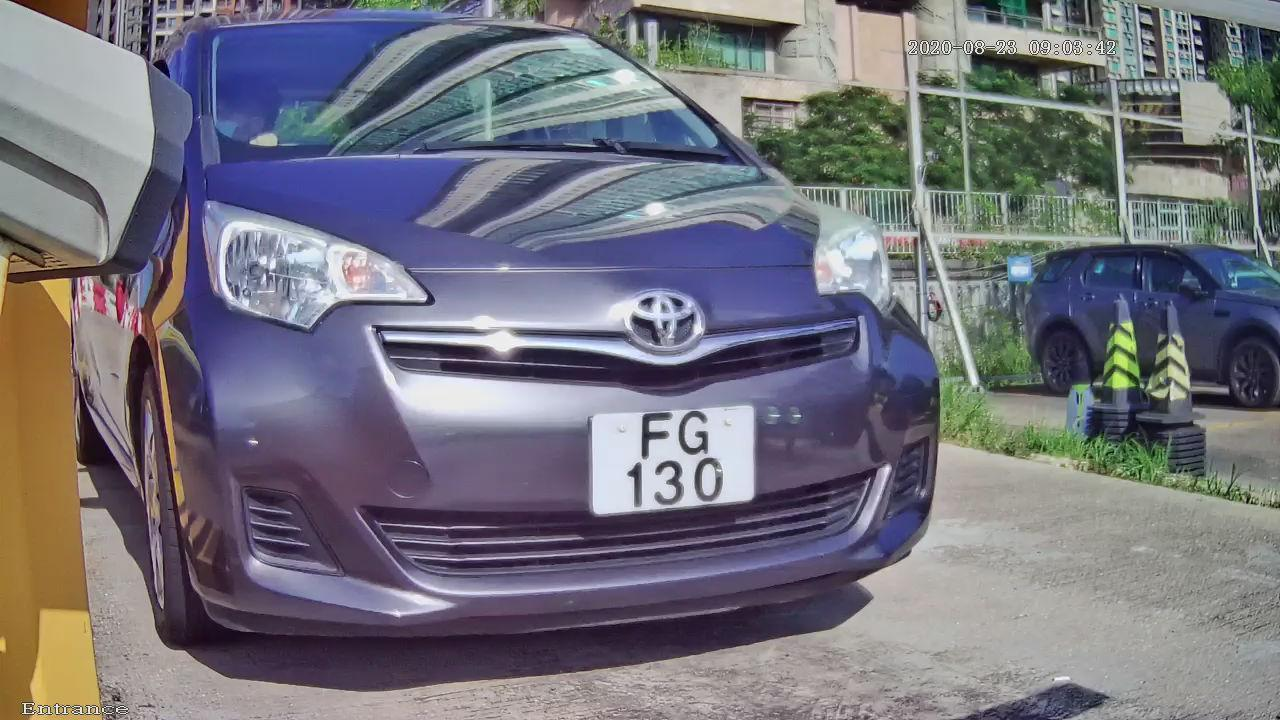Car: (1, 4, 1023, 711)
License Plate: (572, 383, 778, 531)
